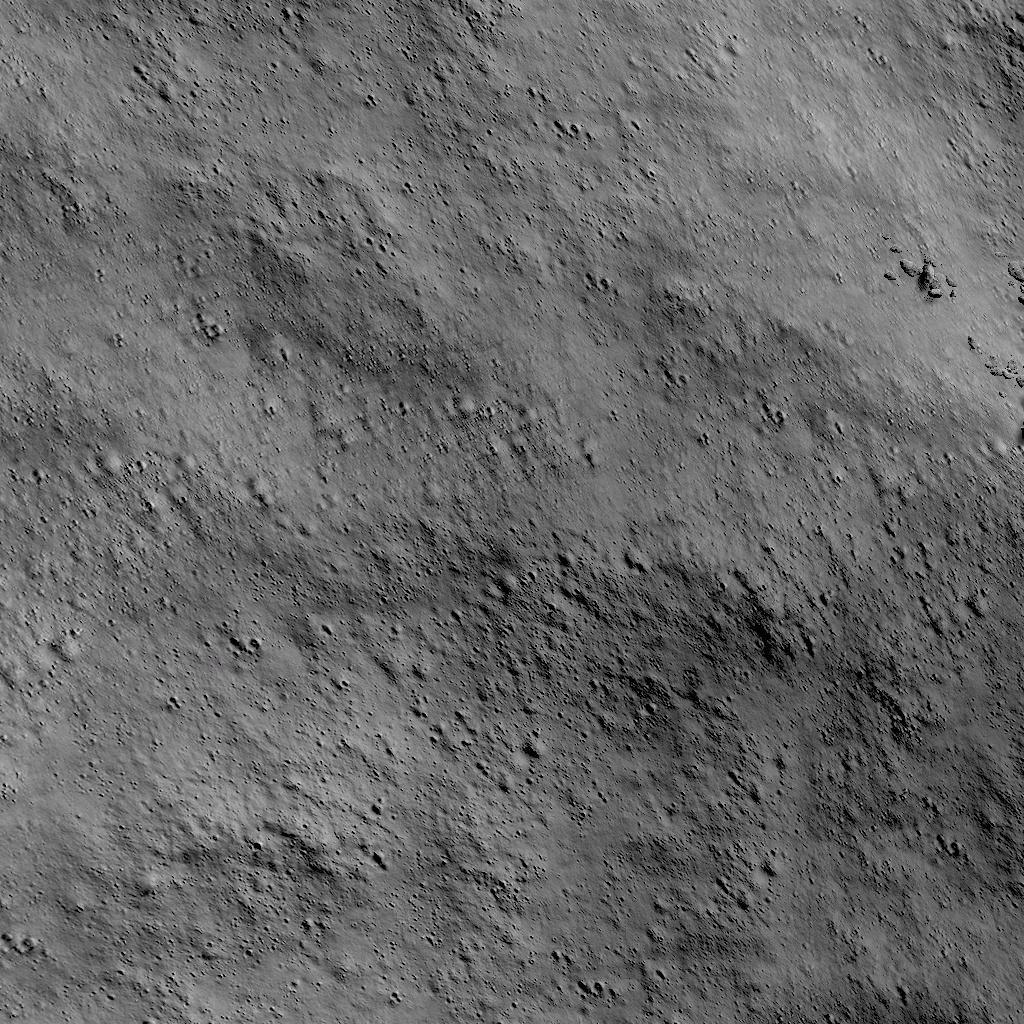Plan surface: (0, 3, 879, 1024)
